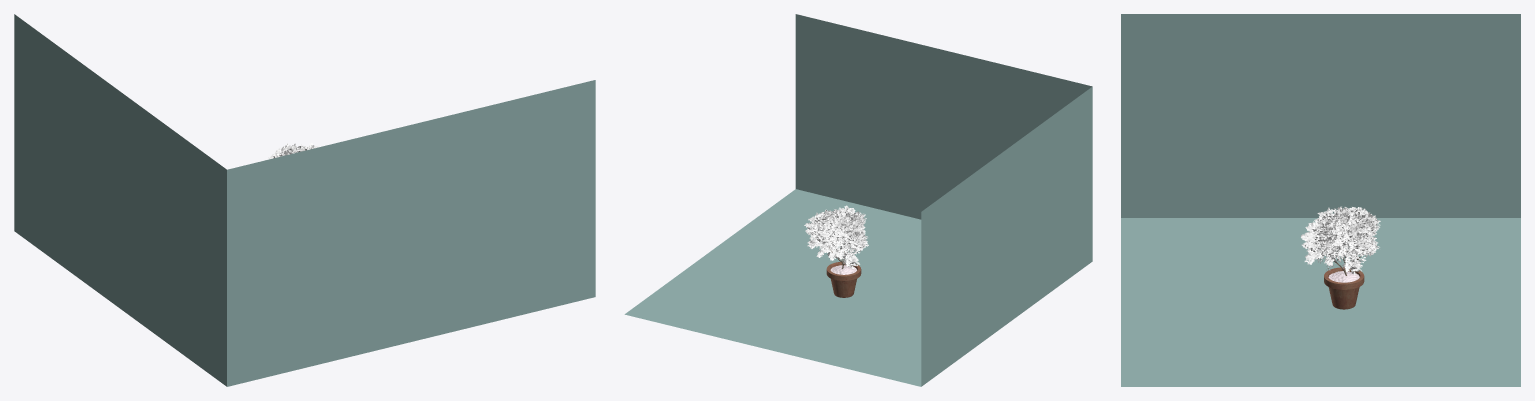
Rendered from Scene_PottedPlant.fbx.
The picture shows the model from 3 angles, left to right: view 1: azimuth 30°, elevation 25°; view 2: azimuth 150°, elevation 25°; view 3: azimuth 270°, elevation 25°; orthographic projection. The views are drawn at different scales.
Visible parts, largest first — view 1: Plane; view 2: Plane, leaf, Pot; view 3: Plane, leaf, Pot, leaftip4.
Part boxes in pixels (x1=…): Plane: x1=14, y1=14, x2=595, y2=386; Plane: x1=624, y1=14, x2=1092, y2=386; leaf: x1=804, y1=205, x2=868, y2=268; Pot: x1=826, y1=262, x2=861, y2=297; Plane: x1=1121, y1=14, x2=1520, y2=386; leaf: x1=1301, y1=206, x2=1380, y2=274; Pot: x1=1324, y1=267, x2=1364, y2=309; leaftip4: x1=1312, y1=213, x2=1371, y2=270.
Bounding box in the file's own units: 3181 × 1792 × 3181.
